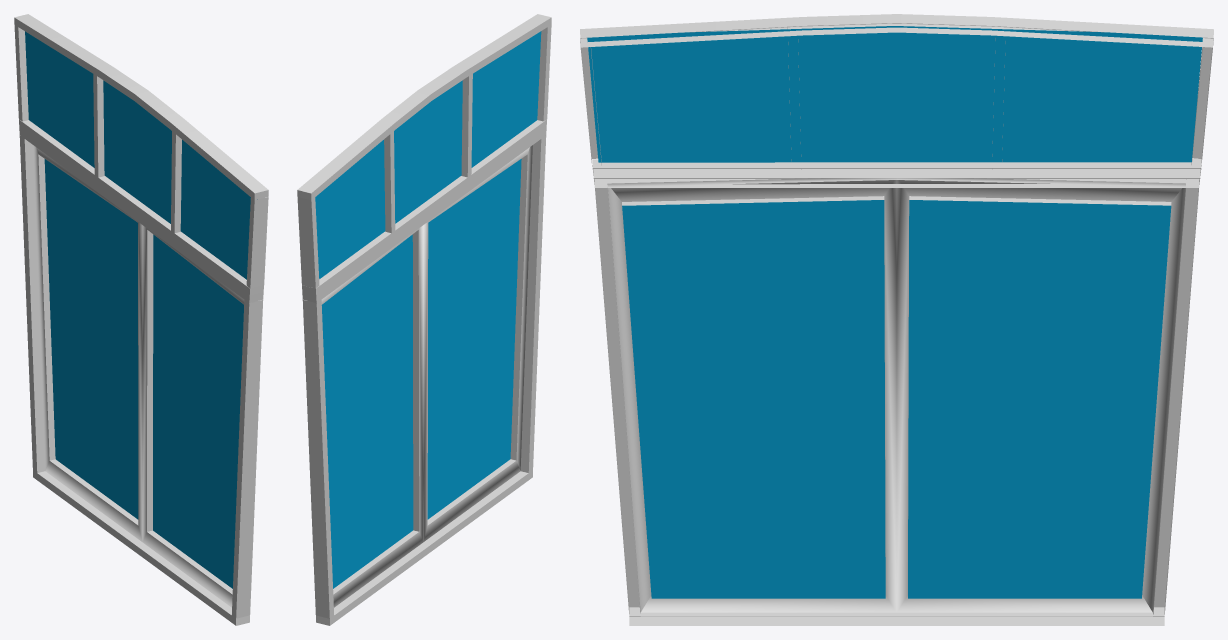
Rendered from SM_Cartoon_Window2.fbx.
3 renders of one model, left to right at view 1: azimuth 30°, elevation 25°; view 2: azimuth 150°, elevation 25°; view 3: azimuth 270°, elevation 25°, orthographic. The views are drawn at different scales.
Visible parts, largest first — view 1: SM_Window.002; view 2: SM_Window.002; view 3: SM_Window.002.
Boxes of the visible parts, <box> form: SM_Window.002: <box>14,14,268,625</box>; SM_Window.002: <box>297,14,551,625</box>; SM_Window.002: <box>580,14,1213,625</box>.
Bounding box in the file's own units: 4.55 × 142 × 135.
